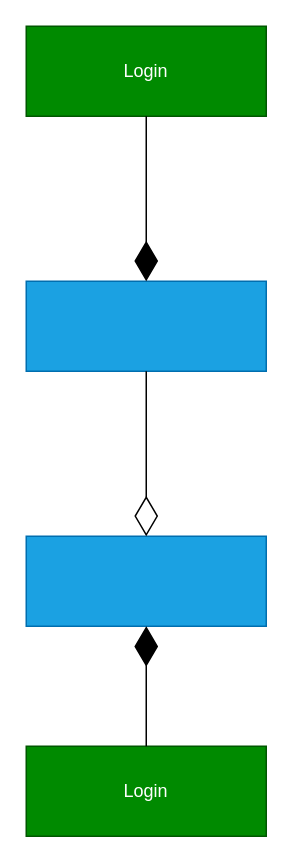
This 293x863 diagram has some shape labels left out. Here are the shapes that lost their labels. From the top down, the box of each, then its label:
(25, 280, 266, 371): AuthService
(25, 535, 266, 626): AuthController
